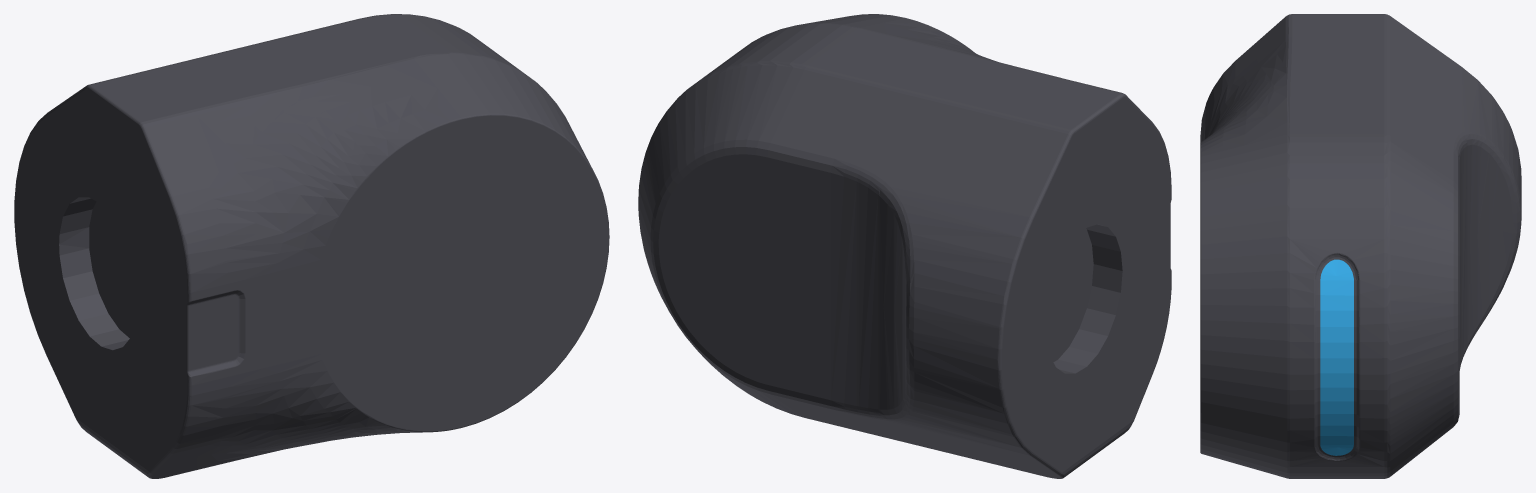
File: BP3_ABAD_R.dae
The picture shows the model from 3 angles, left to right: view 1: azimuth 30°, elevation 25°; view 2: azimuth 150°, elevation 25°; view 3: azimuth 270°, elevation 25°; orthographic projection. The views are drawn at different scales.
Parts seen in each view (by area): view 1: Abad R; view 2: Abad R; view 3: Abad R.
Part boxes in pixels (x1,y1,x2,y2): Abad R: [14, 14, 609, 478]; Abad R: [638, 14, 1171, 478]; Abad R: [1200, 14, 1521, 478].
Size of the model in its own units: 0.1501 by 0.1031 by 0.1161.
Materials: 1 (1 with a texture image).
